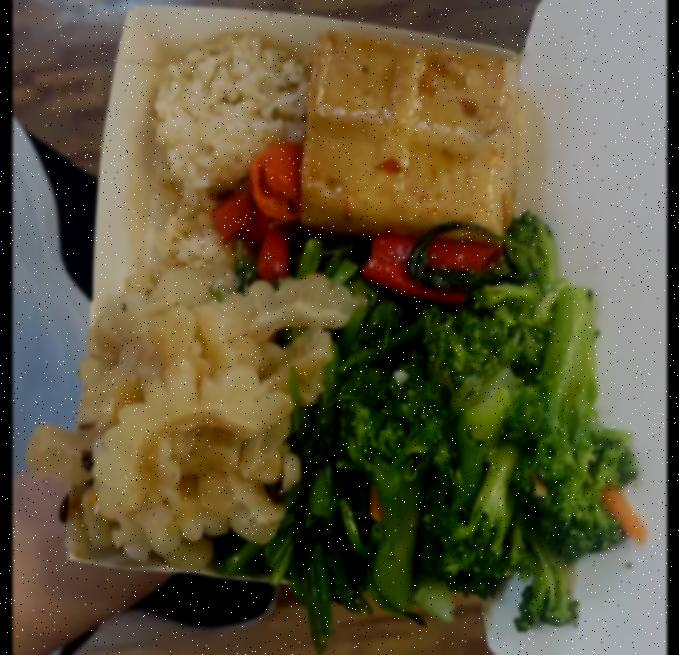box: (59, 0, 536, 607)
side dish: (354, 272, 638, 599), (68, 278, 348, 582), (292, 28, 526, 247), (258, 249, 371, 596)
white rice: (152, 27, 296, 269)
